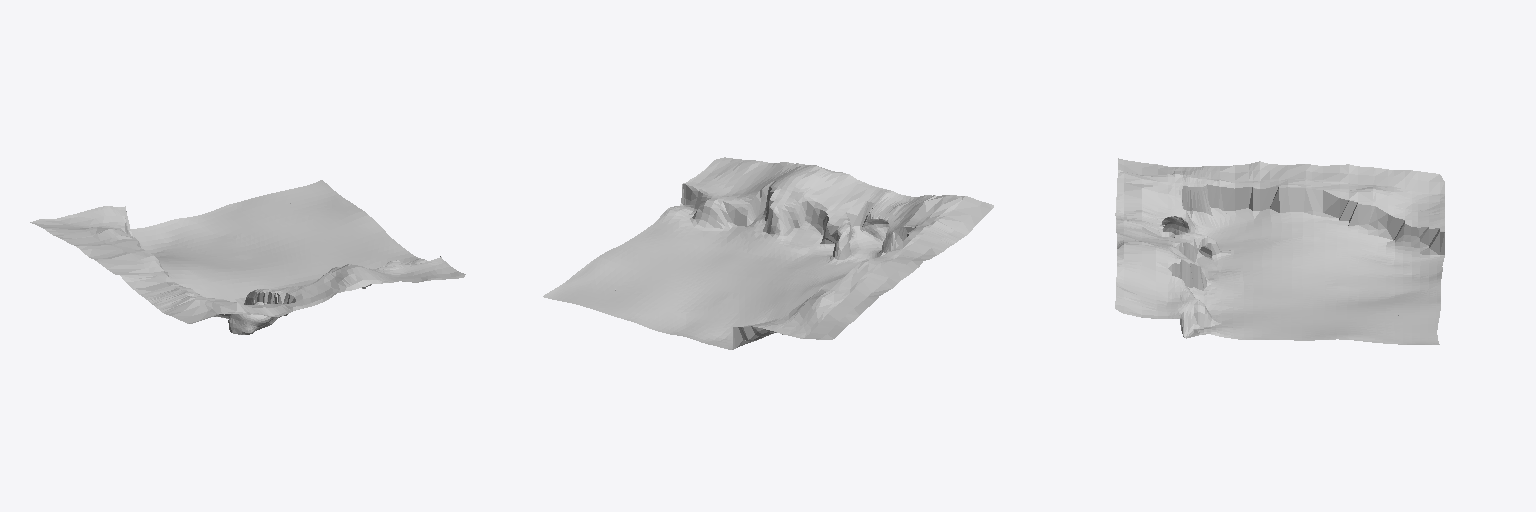
The model's file is Level Export.obj.
3 views of the same model, side by side, from view 1: azimuth 30°, elevation 25°; view 2: azimuth 150°, elevation 25°; view 3: azimuth 270°, elevation 25° (orthographic).
Visible parts, largest first — view 1: polySurface2_0; view 2: polySurface2_0; view 3: polySurface2_0.
Boxes of the visible parts, x1,y1,x2,y2 form: polySurface2_0: [30, 180, 465, 334]; polySurface2_0: [543, 157, 993, 349]; polySurface2_0: [1115, 158, 1444, 344].
Size of the model in its own units: 441 by 85.31 by 431.